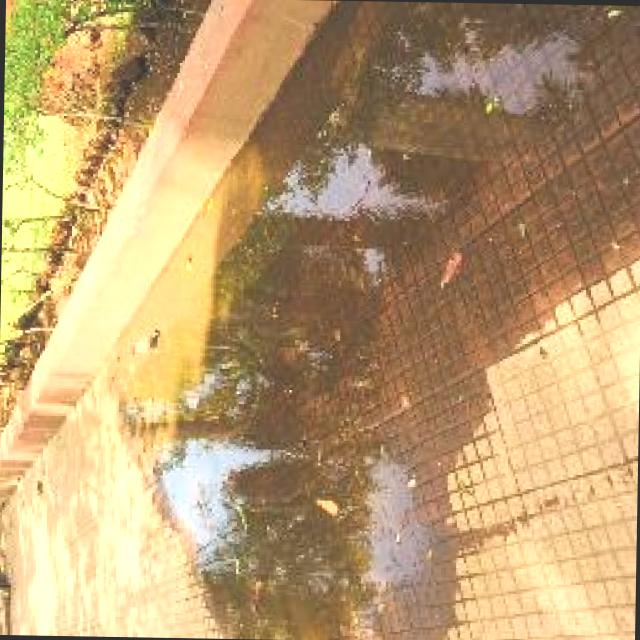waterlogging: (110, 363, 503, 640)
